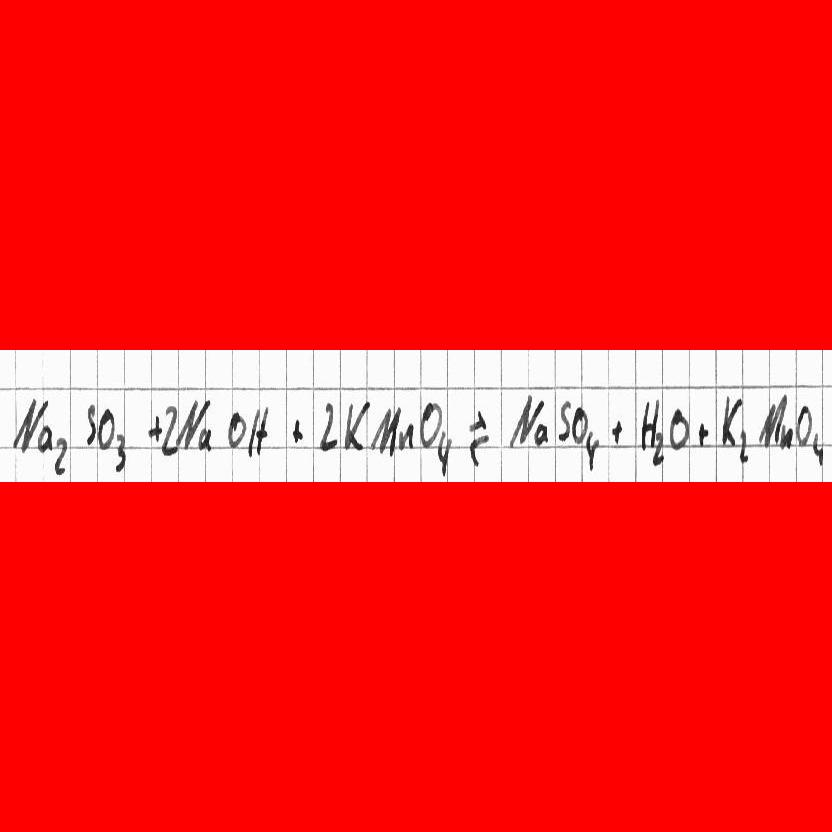Char: (507, 391, 542, 449), (173, 397, 209, 449), (11, 395, 43, 453), (756, 393, 788, 449), (466, 408, 489, 468), (343, 397, 368, 451), (373, 403, 398, 457), (246, 402, 270, 458), (418, 400, 443, 449), (719, 393, 740, 449), (318, 399, 337, 454), (640, 398, 659, 449), (95, 405, 116, 450), (667, 407, 688, 451), (570, 404, 590, 445), (228, 409, 246, 449), (793, 404, 810, 444), (52, 435, 69, 474), (34, 423, 55, 454), (163, 411, 178, 454), (83, 404, 98, 446), (584, 429, 599, 471), (437, 433, 453, 472), (558, 400, 572, 441), (114, 435, 128, 473), (398, 421, 414, 453), (736, 429, 750, 464), (652, 431, 665, 467), (532, 421, 549, 448), (290, 415, 305, 445), (147, 414, 163, 442), (198, 425, 214, 453), (609, 416, 624, 445), (813, 435, 825, 467), (779, 426, 793, 449), (697, 422, 709, 446)
